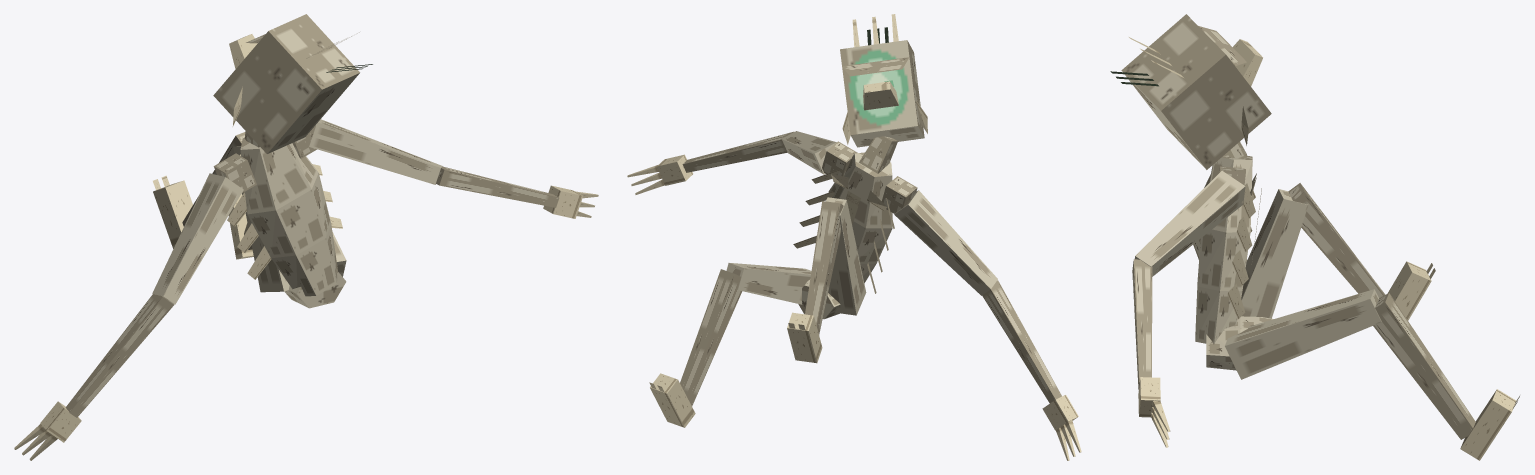
Rendered from hollow_death.obj.
The picture shows the model from 3 angles, left to right: view 1: azimuth 30°, elevation 25°; view 2: azimuth 150°, elevation 25°; view 3: azimuth 270°, elevation 25°; orthographic projection. The views are drawn at different scales.
Parts seen in each view (by area): view 1: head, spine, arm_l_upper, arm_r_upper, arm_l_fore, arm_r_fore, leg_l_foot, arm_l_hand, arm_r_hand, leg_l_thigh, shoulder_l, root; view 2: head, spine, arm_l_upper, leg_r_shin, leg_l_shin, leg_l_thigh, arm_l_fore, leg_r_thigh, arm_r_fore, leg_r_foot, leg_l_foot, arm_l_hand (+7 smaller); view 3: head, spine, leg_r_thigh, leg_l_thigh, leg_r_shin, arm_r_upper, leg_l_shin, arm_r_fore, leg_r_foot, leg_l_foot, arm_r_hand, root (+1 smaller).
Part boxes in pixels (x1,y1,x2,y2): head: (213,14,372,153); spine: (227,137,342,296); arm_l_upper: (152,173,243,304); arm_r_upper: (309,119,442,184); arm_l_fore: (65,294,173,417); arm_r_fore: (436,166,559,207); leg_l_foot: (153,175,192,248); arm_l_hand: (14,401,81,460); arm_r_hand: (543,185,598,218); leg_l_thigh: (233,146,289,292); shoulder_l: (213,153,256,192); root: (284,270,346,308); head: (840,14,927,147); spine: (793,152,894,293); arm_l_upper: (894,190,997,295); leg_r_shin: (680,269,742,406); leg_l_shin: (805,201,843,334); leg_l_thigh: (826,197,866,315); arm_l_fore: (982,280,1061,403); leg_r_thigh: (726,263,811,304); arm_r_fore: (682,131,794,172); leg_r_foot: (649,373,695,427); leg_l_foot: (787,312,822,363); arm_l_hand: (1042,395,1081,460); head: (1110,14,1271,169); spine: (1195,155,1261,343); leg_r_thigh: (1225,289,1381,379); leg_l_thigh: (1241,189,1308,318); leg_r_shin: (1373,293,1475,439); arm_r_upper: (1134,171,1245,276); leg_l_shin: (1288,183,1385,298); arm_r_fore: (1132,259,1152,389); leg_r_foot: (1460,389,1519,460); leg_l_foot: (1387,261,1435,320); arm_r_hand: (1138,377,1170,447); root: (1206,316,1273,370).
Bounding box in the file's own units: 0.9244 × 0.6462 × 0.5675.
1 material, 1 textured.
